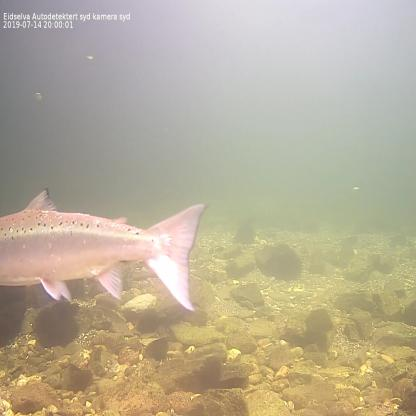salmon: (0, 185, 212, 315)
